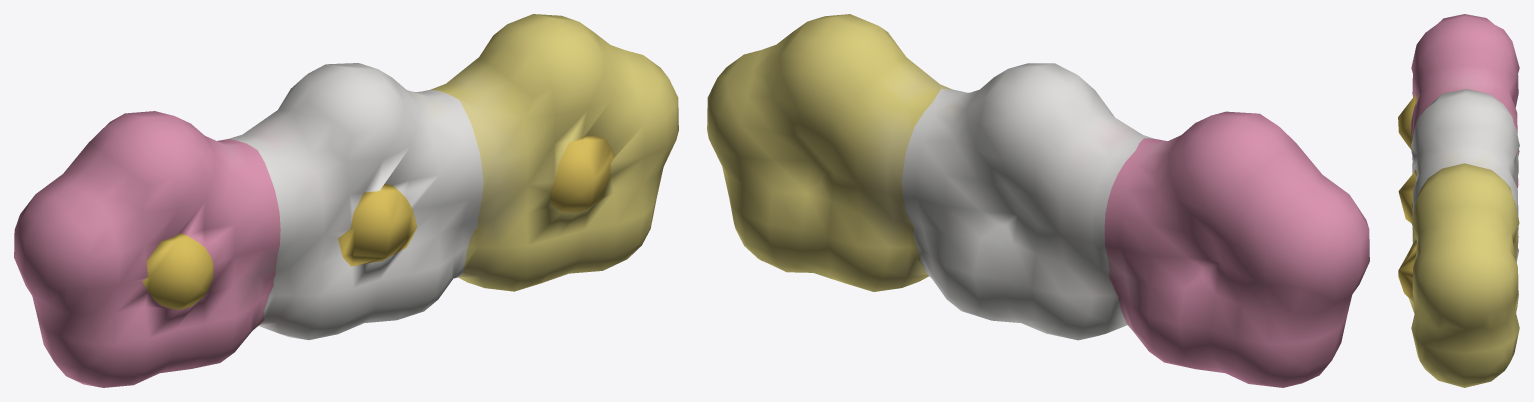
The model's file is orn_c03.glb.
3 renders of one model, left to right at view 1: azimuth 30°, elevation 25°; view 2: azimuth 150°, elevation 25°; view 3: azimuth 270°, elevation 25°, orthographic. The views are drawn at different scales.
Visible parts, largest first — view 1: orn_c03; view 2: orn_c03; view 3: orn_c03.
Part boxes in pixels (x1,y1,x2,y2): orn_c03: (14,14,678,387); orn_c03: (707,14,1369,387); orn_c03: (1398,14,1519,387).
Size of the model in its own units: 8.46 by 3.23 by 1.79.
